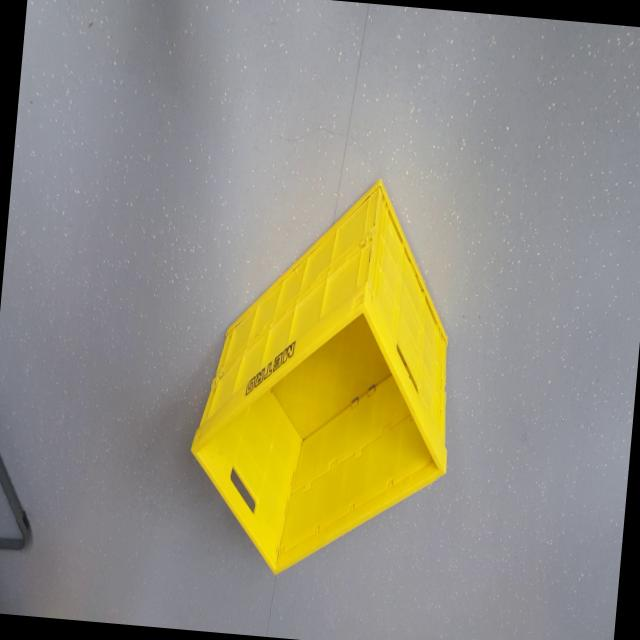box: (174, 157, 478, 594)
